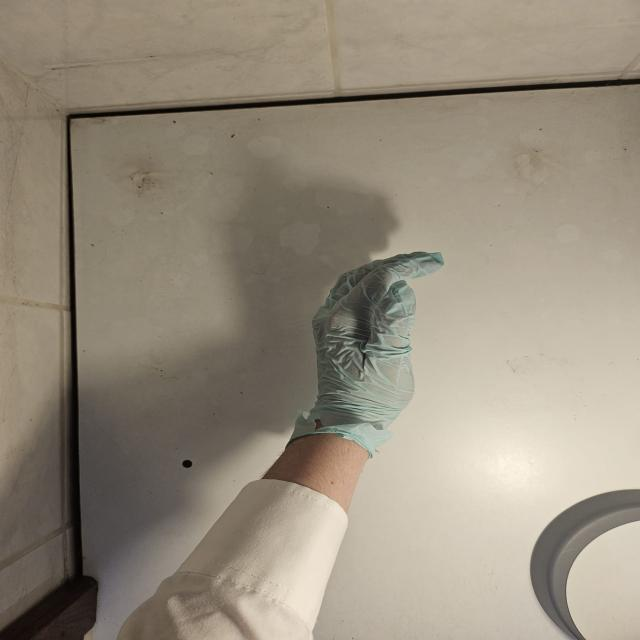gloves_damaged: (283, 248, 445, 461)
